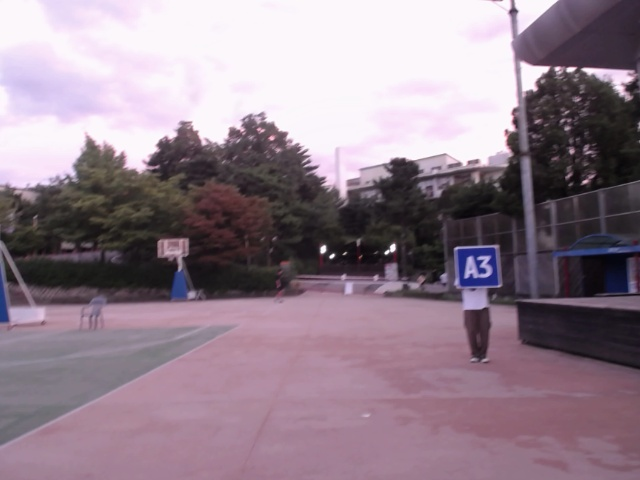delivery_a3: (455, 247, 502, 288)
